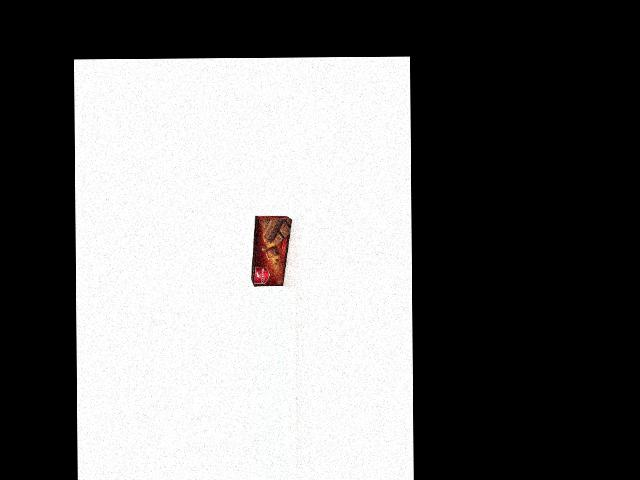chocolate: (250, 216, 293, 286)
